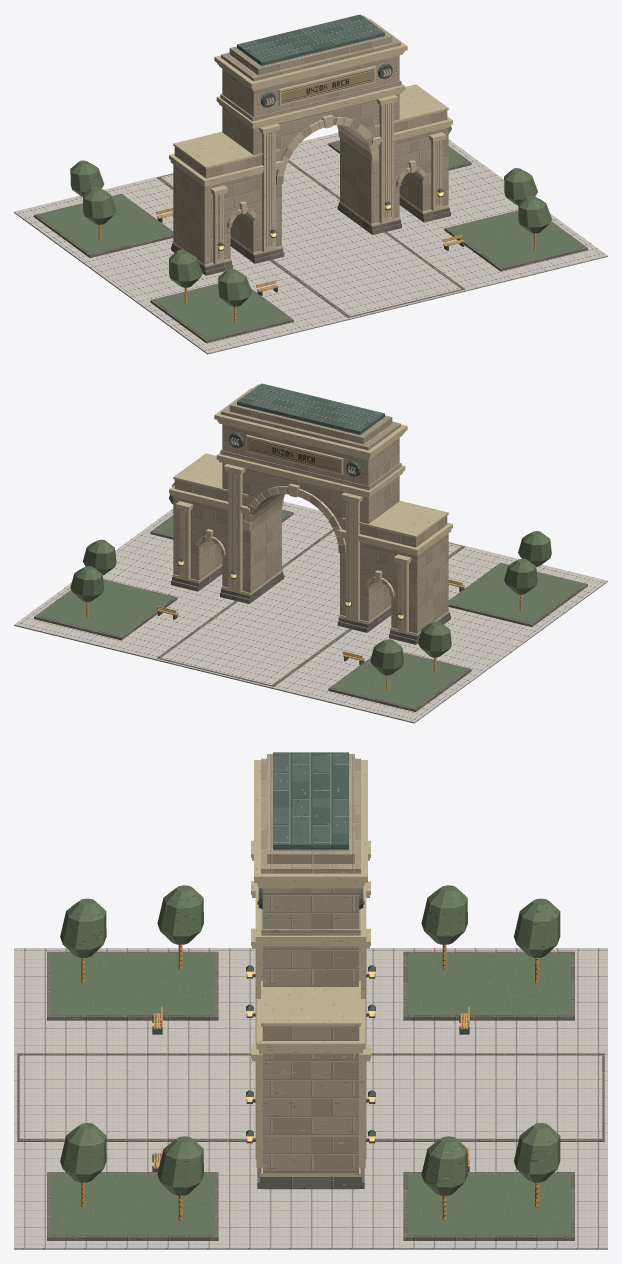
Rendered from union-arch.glb.
The picture shows the model from 3 angles, top to bottom: view 1: azimuth 30°, elevation 25°; view 2: azimuth 150°, elevation 25°; view 3: azimuth 270°, elevation 25°; orthographic projection. The views are drawn at different scales.
Visible parts, largest first — view 1: union_arch__ground_paving, stone_arch__wall_ashlar, stone_arch__wall_limestone, union_arch__ground_grass, union_arch__wall_granite, stone_arch__roof_copper, stone_arch__wall_granite, sign_name, tree_1_-13.8__detail_foliage, tree_-1_-13.8__detail_foliage, tree_-1_-7.9__detail_foliage, tree_-1_8.1__detail_foliage (+3 smaller); view 2: union_arch__ground_paving, stone_arch__wall_ashlar, stone_arch__wall_limestone, union_arch__ground_grass, union_arch__wall_granite, stone_arch__roof_copper, stone_arch__wall_granite, sign_name_reverse, tree_-1_-7.9__detail_foliage, tree_-1_8.1__detail_foliage, tree_1_13.7__detail_foliage, tree_-1_13.7__detail_foliage (+3 smaller); view 3: union_arch__ground_paving, union_arch__ground_grass, stone_arch__wall_ashlar, stone_arch__wall_limestone, union_arch__wall_granite, stone_arch__roof_copper, tree_-1_13.7__detail_foliage, tree_1_-13.8__detail_foliage, tree_1_13.7__detail_foliage, tree_-1_-13.8__detail_foliage, tree_-1_-7.9__detail_foliage, tree_-1_8.1__detail_foliage (+4 smaller).
Part boxes in pixels (box(x1,y1,x2,y2)): union_arch__ground_paving: box(14, 132, 607, 354); stone_arch__wall_ashlar: box(173, 15, 448, 264); stone_arch__wall_limestone: box(169, 19, 452, 266); union_arch__ground_grass: box(38, 141, 583, 339); union_arch__wall_granite: box(34, 140, 587, 342); stone_arch__roof_copper: box(237, 14, 384, 65); stone_arch__wall_granite: box(171, 197, 450, 275); sign_name: box(281, 69, 374, 103); tree_1_-13.8__detail_foliage: box(518, 195, 551, 233); tree_-1_-13.8__detail_foliage: box(218, 268, 252, 306); tree_-1_-7.9__detail_foliage: box(169, 249, 202, 287); tree_-1_8.1__detail_foliage: box(82, 187, 116, 224); union_arch__ground_paving: box(14, 501, 607, 723); stone_arch__wall_ashlar: box(173, 384, 448, 633); stone_arch__wall_limestone: box(169, 388, 452, 635); union_arch__ground_grass: box(38, 510, 583, 708); union_arch__wall_granite: box(34, 509, 587, 711); stone_arch__roof_copper: box(237, 383, 384, 434); stone_arch__wall_granite: box(171, 566, 450, 644); sign_name_reverse: box(247, 438, 340, 472); tree_-1_-7.9__detail_foliage: box(504, 558, 537, 594); tree_-1_8.1__detail_foliage: box(418, 621, 451, 657); tree_1_13.7__detail_foliage: box(70, 566, 103, 601); tree_-1_13.7__detail_foliage: box(370, 639, 403, 675); union_arch__ground_paving: box(14, 948, 607, 1249); union_arch__ground_grass: box(51, 953, 570, 1235); stone_arch__wall_ashlar: box(255, 754, 366, 1189); stone_arch__wall_limestone: box(251, 760, 370, 1176); union_arch__wall_granite: box(17, 951, 604, 1240); stone_arch__roof_copper: box(273, 752, 348, 850); tree_-1_13.7__detail_foliage: box(514, 898, 560, 957); tree_1_-13.8__detail_foliage: box(60, 1123, 106, 1182); tree_1_13.7__detail_foliage: box(514, 1123, 560, 1182); tree_-1_-13.8__detail_foliage: box(60, 898, 106, 957); tree_-1_-7.9__detail_foliage: box(157, 885, 203, 944); tree_-1_8.1__detail_foliage: box(421, 885, 467, 944).
Bounding box in the file's own units: 43 × 20.15 × 36.
Materials: 11 (11 with a texture image).
